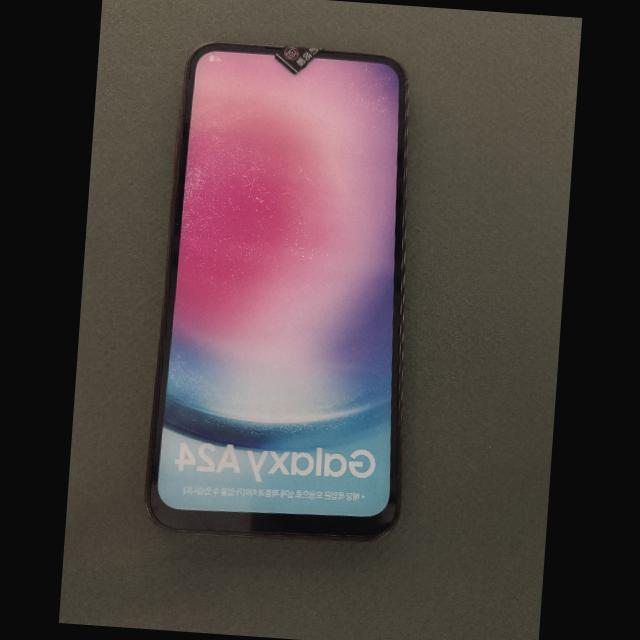phone: (146, 43, 407, 538)
sticker: (274, 46, 322, 74)
